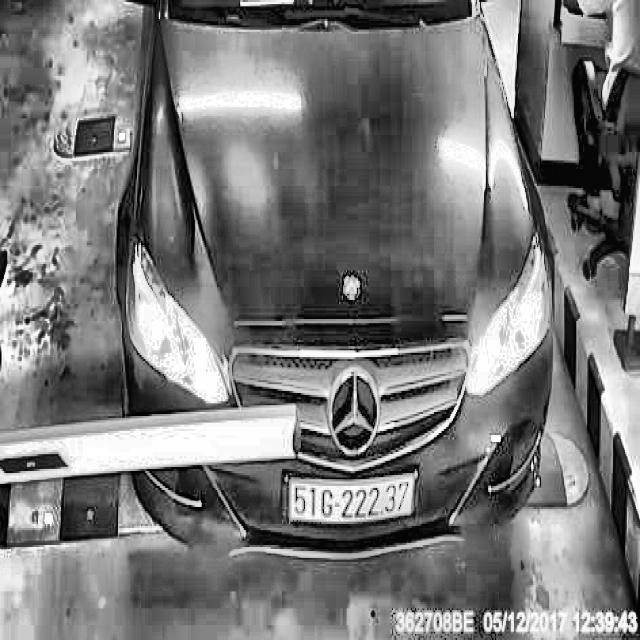plate: (283, 473, 418, 529)
